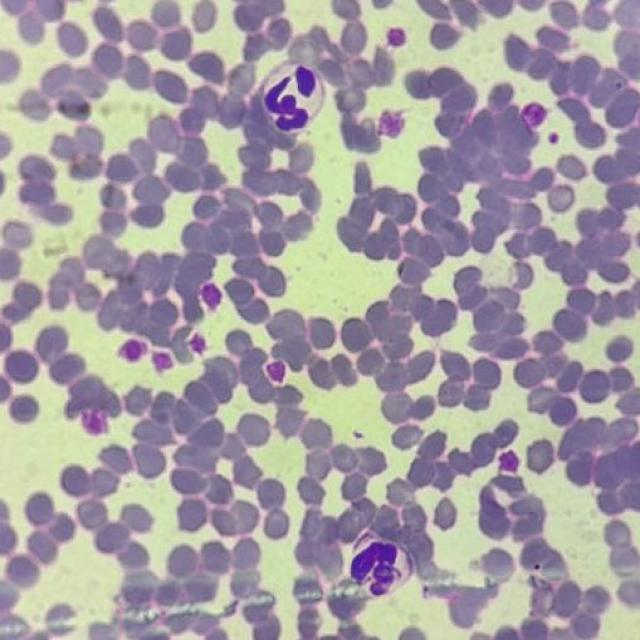Neutrofilo: (255, 56, 326, 138), (347, 534, 416, 598)
